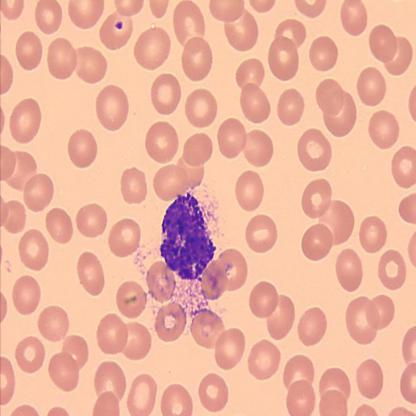Basophil: (156, 191, 219, 284)
